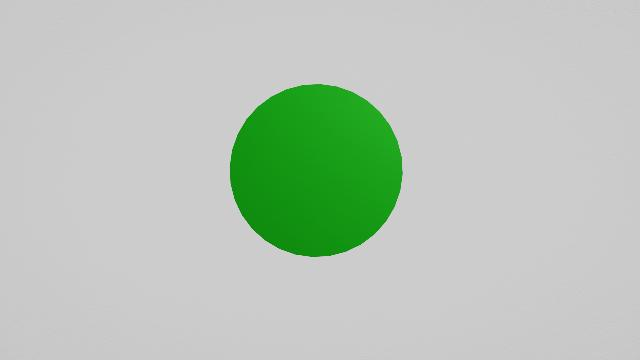Cylinder: (226, 78, 408, 266)
